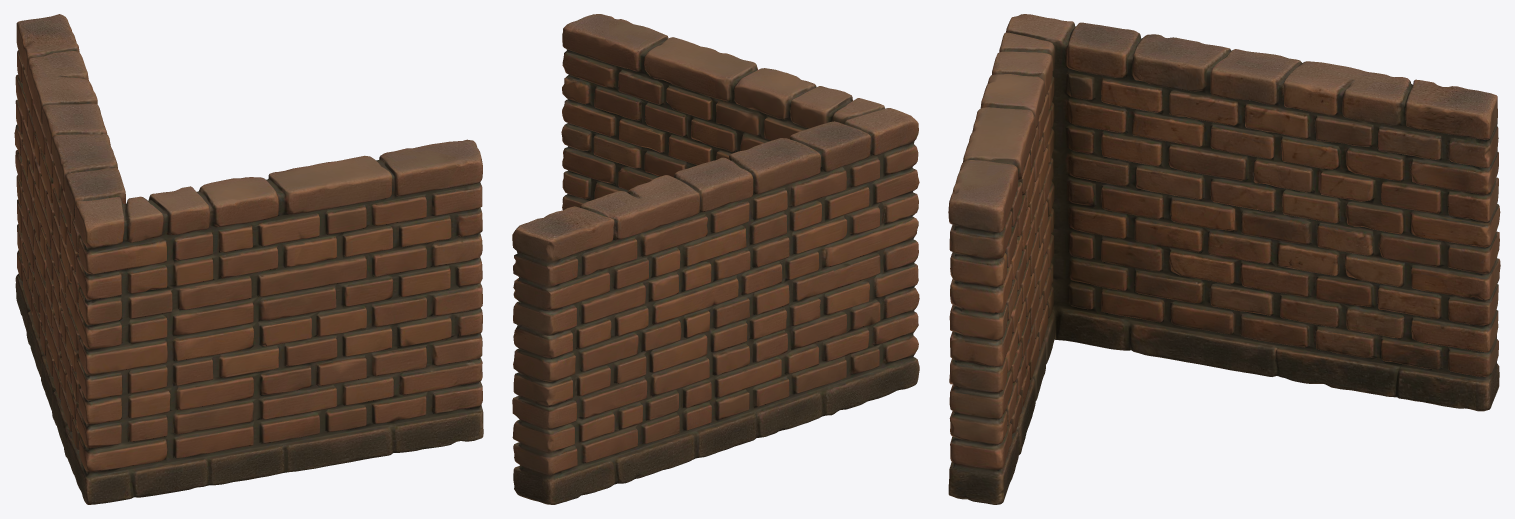
File: Brickwallcorner.glb
3 renders of one model, left to right at view 1: azimuth 30°, elevation 25°; view 2: azimuth 150°, elevation 25°; view 3: azimuth 270°, elevation 25°, orthographic. The views are drawn at different scales.
Parts seen in each view (by area): view 1: tripo_node_61b6ac45-5a6a-43e9-93ad-d5028002b5b7; view 2: tripo_node_61b6ac45-5a6a-43e9-93ad-d5028002b5b7; view 3: tripo_node_61b6ac45-5a6a-43e9-93ad-d5028002b5b7.
Boxes of the visible parts, bbox=[...] form: tripo_node_61b6ac45-5a6a-43e9-93ad-d5028002b5b7: bbox=[14, 14, 483, 504]; tripo_node_61b6ac45-5a6a-43e9-93ad-d5028002b5b7: bbox=[512, 14, 919, 504]; tripo_node_61b6ac45-5a6a-43e9-93ad-d5028002b5b7: bbox=[948, 14, 1500, 504].
Bounding box in the file's own units: 0.8456 × 0.5958 × 1.
Materials: 1 (1 with a texture image).
